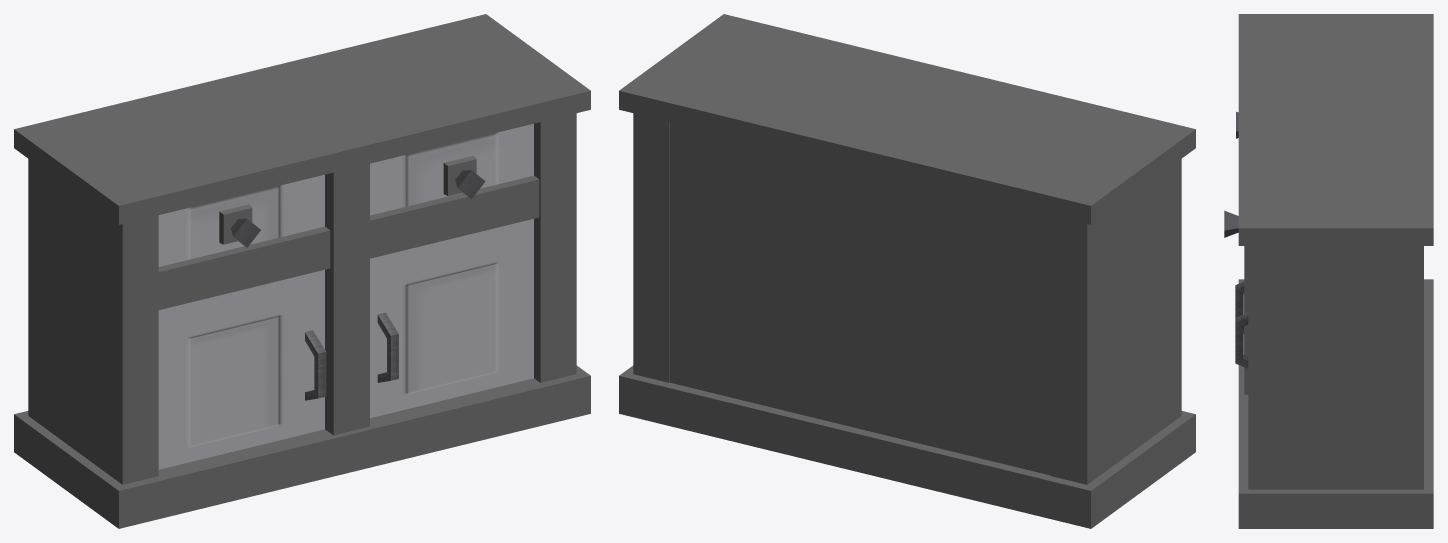
Rendered from Cupboard_6_1.fbx.
3 renders of one model, left to right at view 1: azimuth 30°, elevation 25°; view 2: azimuth 150°, elevation 25°; view 3: azimuth 270°, elevation 25°, orthographic. The views are drawn at different scales.
Parts seen in each view (by area): view 1: polySurface1572; view 2: polySurface1572; view 3: polySurface1572.
Part boxes in pixels (<box>): polySurface1572: <box>14,14,590,528</box>; polySurface1572: <box>619,14,1195,528</box>; polySurface1572: <box>1224,14,1433,528</box>.
Bounding box in the file's own units: 1.3 × 0.85 × 0.5362.
